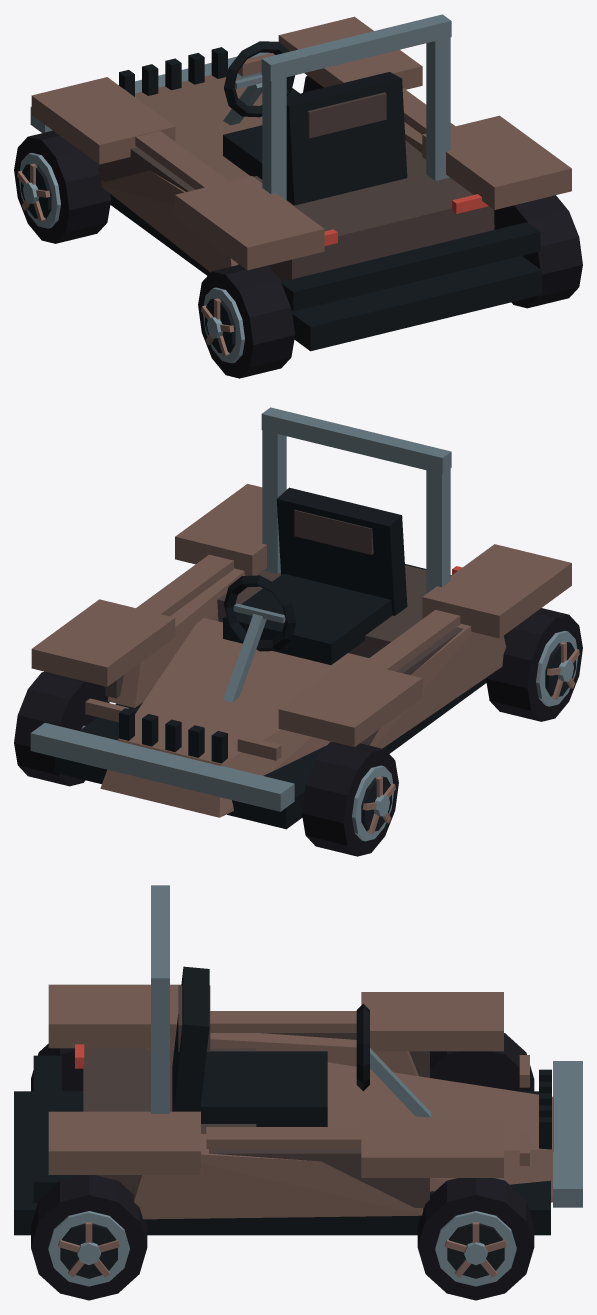
Rendered from kart.glb.
The picture shows the model from 3 angles, top to bottom: view 1: azimuth 30°, elevation 25°; view 2: azimuth 150°, elevation 25°; view 3: azimuth 270°, elevation 25°; orthographic projection. The views are drawn at different scales.
Parts seen in each view (by area): view 1: chassis, wheel-rear-left, wheel-front-left, wheel-rear-right; view 2: chassis, wheel-front-left, wheel-rear-left, wheel-front-right; view 3: chassis, wheel-rear-right, wheel-front-right, wheel-front-left, wheel-rear-left.
Part boxes in pixels (<box>): chassis: <box>30,14,571,351</box>; wheel-rear-left: <box>198,264,294,378</box>; wheel-front-left: <box>14,130,110,243</box>; wheel-rear-right: <box>494,195,582,308</box>; chassis: <box>30,407,571,829</box>; wheel-front-left: <box>302,742,398,856</box>; wheel-rear-left: <box>486,608,582,721</box>; wheel-front-right: <box>14,671,109,786</box>; chassis: <box>14,885,582,1235</box>; wheel-rear-right: <box>31,1175,147,1300</box>; wheel-front-right: <box>417,1178,534,1300</box>; wheel-front-left: <box>430,1033,534,1091</box>; wheel-rear-left: <box>31,1043,83,1091</box>.
Bounding box in the file's own units: 2.3 × 1.67 × 3.03.
